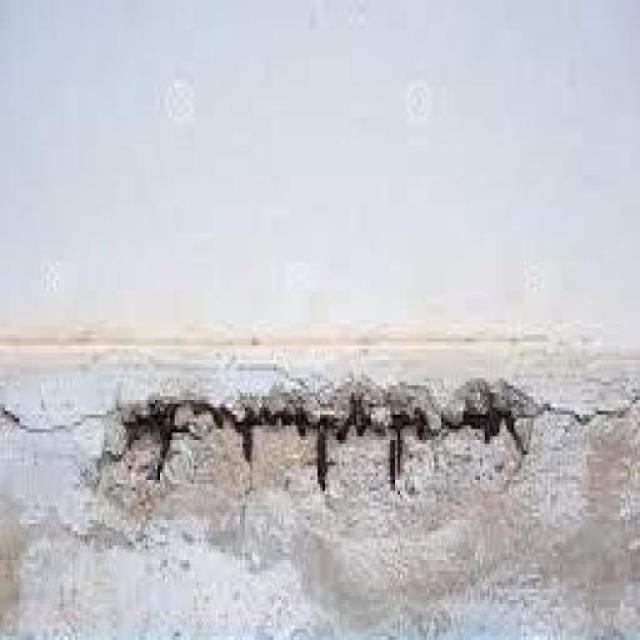D0w0: (80, 379, 540, 524)
